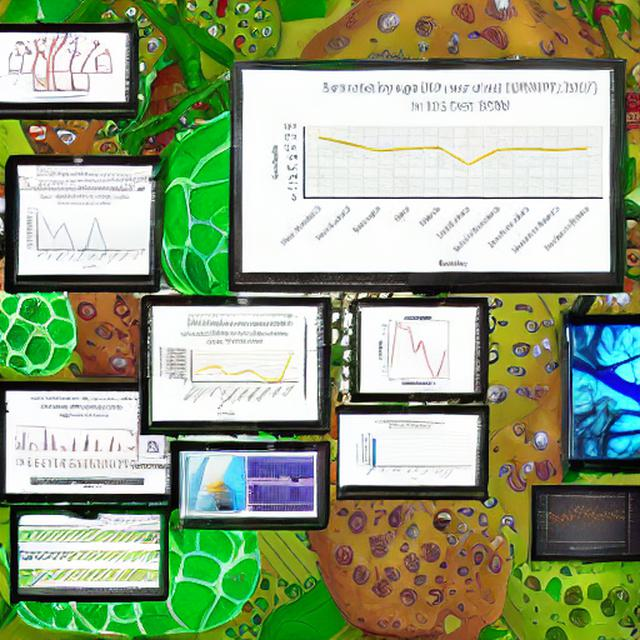Graph: (261, 73, 608, 270), (155, 329, 299, 418), (23, 193, 147, 272), (363, 312, 471, 386), (359, 420, 460, 483), (536, 493, 628, 552), (6, 425, 57, 454)
